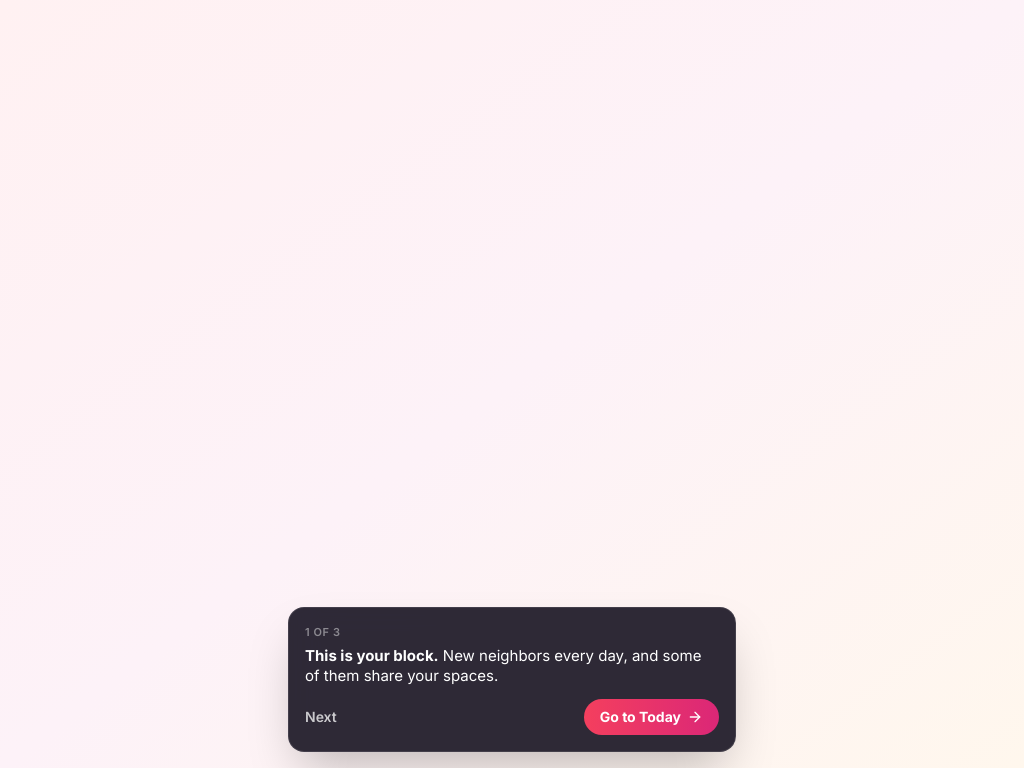
Scenario: ArrivalTownTour › walks through three captions, with Go to Today always there
Later steps or results of the test are not shown.
Expected: the text "This is your block." is shown, left=305, top=646, right=439, bottom=665
Click the button "Next": (321, 717) left=305, top=707, right=337, bottom=727
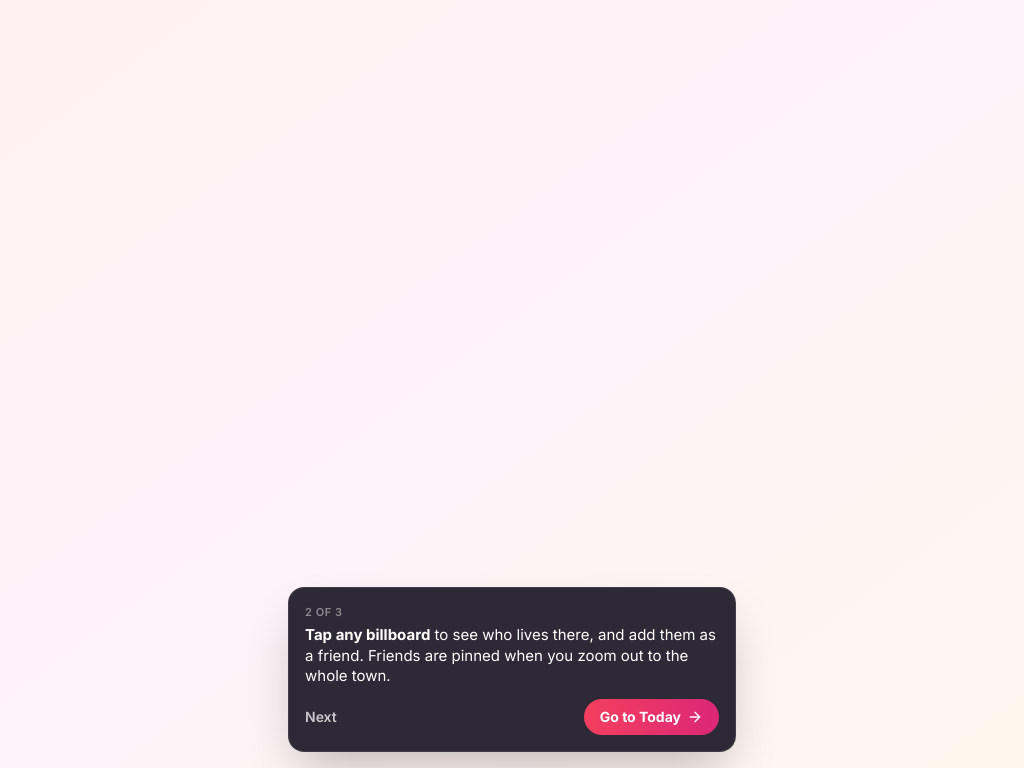
Expected: the text "Tap any billboard" is shown, left=305, top=625, right=430, bottom=644
Click the button "Next": (321, 717) left=305, top=707, right=337, bottom=727
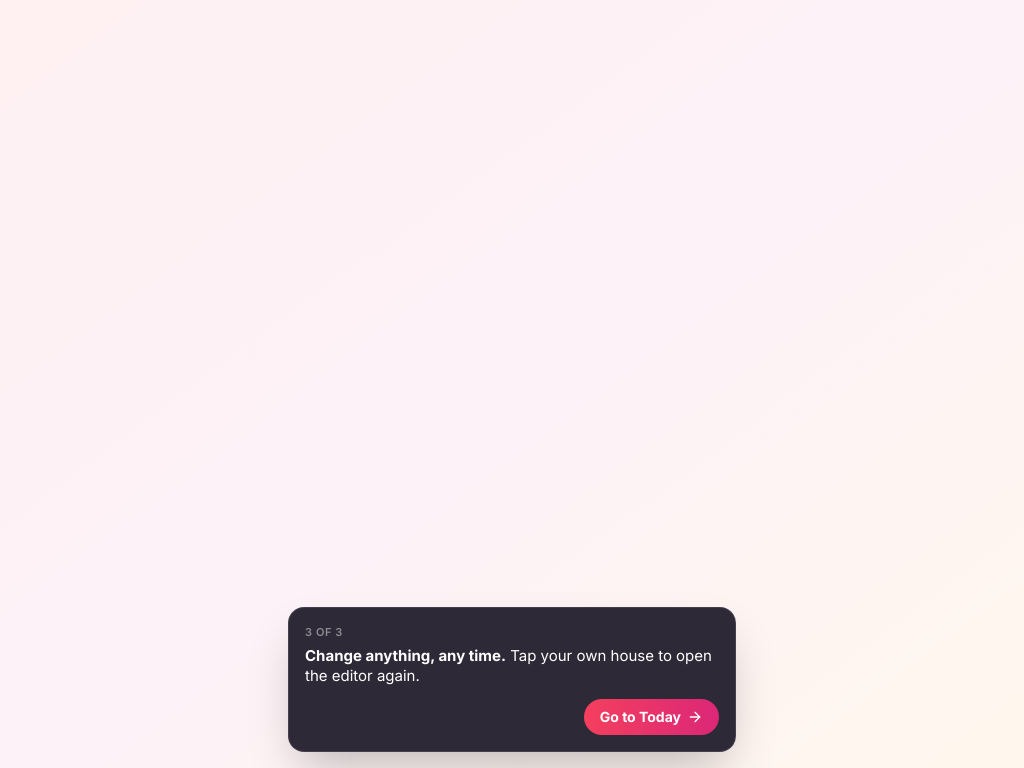
Expected: the text "Change anything, any time." is shown, left=305, top=646, right=506, bottom=665
Expected: the button "Next" is gone
